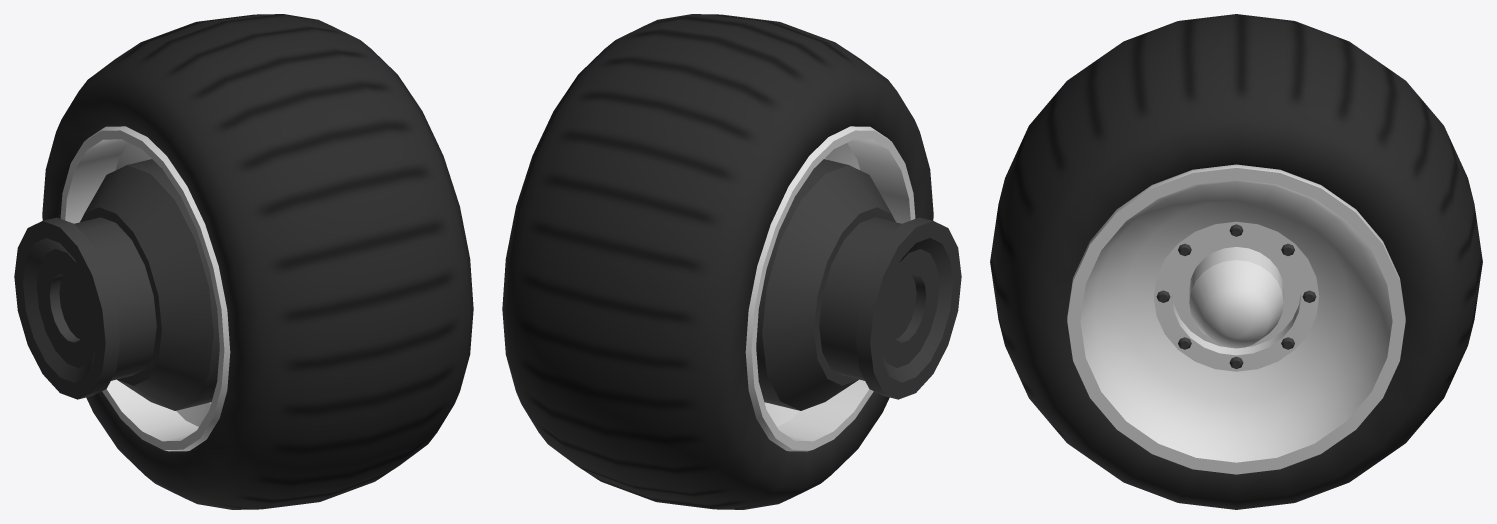
File: tire1_front1.obj
3 views of the same model, side by side, from view 1: azimuth 30°, elevation 25°; view 2: azimuth 150°, elevation 25°; view 3: azimuth 270°, elevation 25° (orthographic).
Parts seen in each view (by area): view 1: tire1_front1; view 2: tire1_front1; view 3: tire1_front1.
Part boxes in pixels (box(x1,y1,x2,y2)): tire1_front1: box(14, 14, 473, 509); tire1_front1: box(502, 14, 961, 509); tire1_front1: box(990, 14, 1482, 509).
Size of the model in its own units: 0.6753 by 0.8933 by 0.8933.
1 material, 1 textured.
